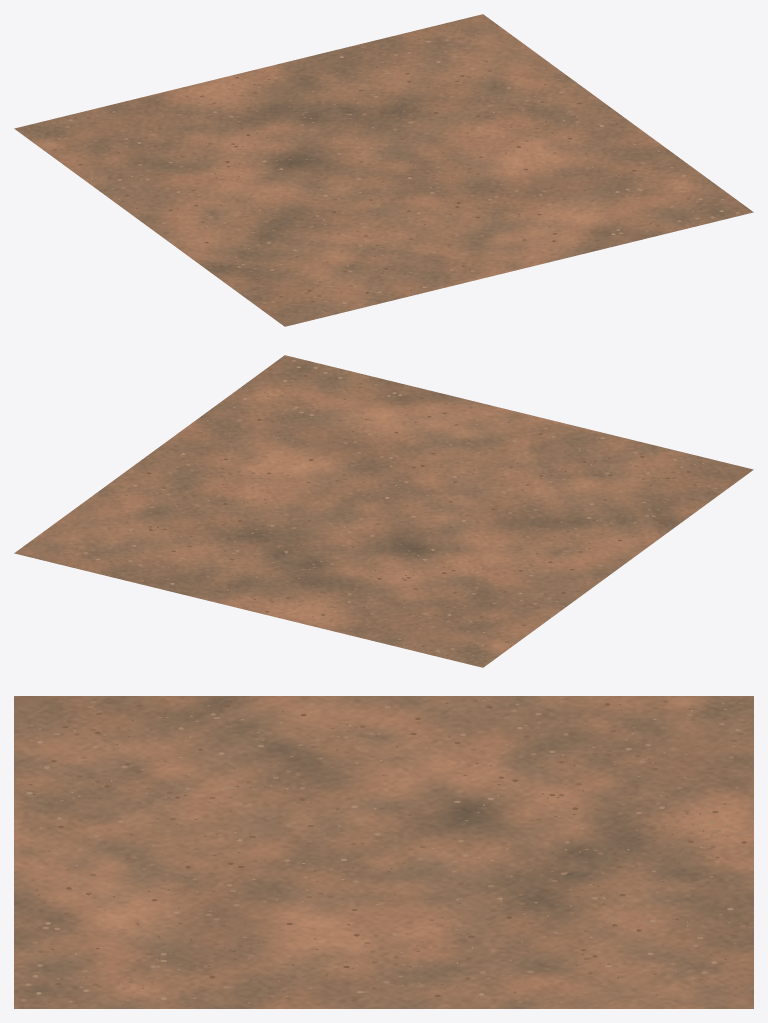
Rendered from E07_SOLOZ2_P1_TERRA_SECA_A.glb.
3 renders of one model, top to bottom at view 1: azimuth 30°, elevation 25°; view 2: azimuth 150°, elevation 25°; view 3: azimuth 270°, elevation 25°, orthographic. The views are drawn at different scales.
Visible parts, largest first — view 1: piso_2x2_texturizado; view 2: piso_2x2_texturizado; view 3: piso_2x2_texturizado.
Boxes of the visible parts, left/top/right/bottom form: piso_2x2_texturizado: left=14, top=14, right=753, bottom=326; piso_2x2_texturizado: left=14, top=355, right=753, bottom=667; piso_2x2_texturizado: left=14, top=696, right=753, bottom=1008.
Size of the model in its own units: 2 by 0.00762 by 2.
1 material, 1 textured.
